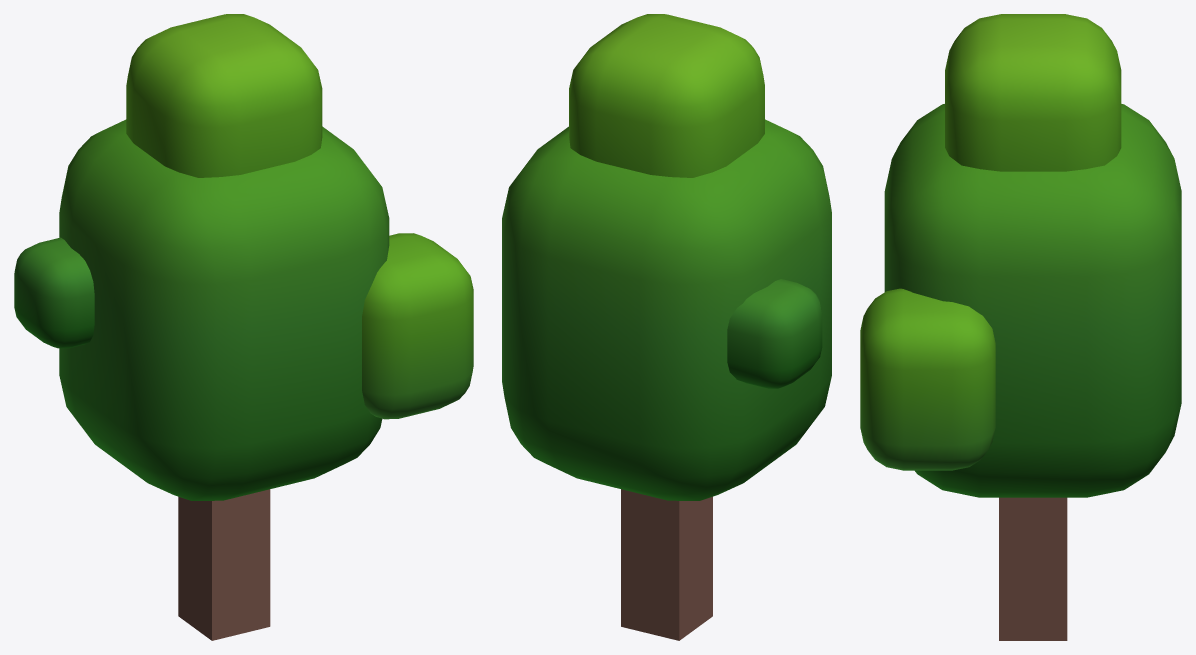
Rendered from Tree3.fbx.
3 views of the same model, side by side, from view 1: azimuth 30°, elevation 25°; view 2: azimuth 150°, elevation 25°; view 3: azimuth 270°, elevation 25° (orthographic).
Parts seen in each view (by area): view 1: Tree3; view 2: Tree3; view 3: Tree3.
Boxes of the visible parts, left/top/right/bottom form: Tree3: left=14, top=14, right=473, bottom=640; Tree3: left=502, top=14, right=831, bottom=640; Tree3: left=860, top=14, right=1181, bottom=640.
Bounding box in the file's own units: 2.91 × 4.65 × 2.28.
